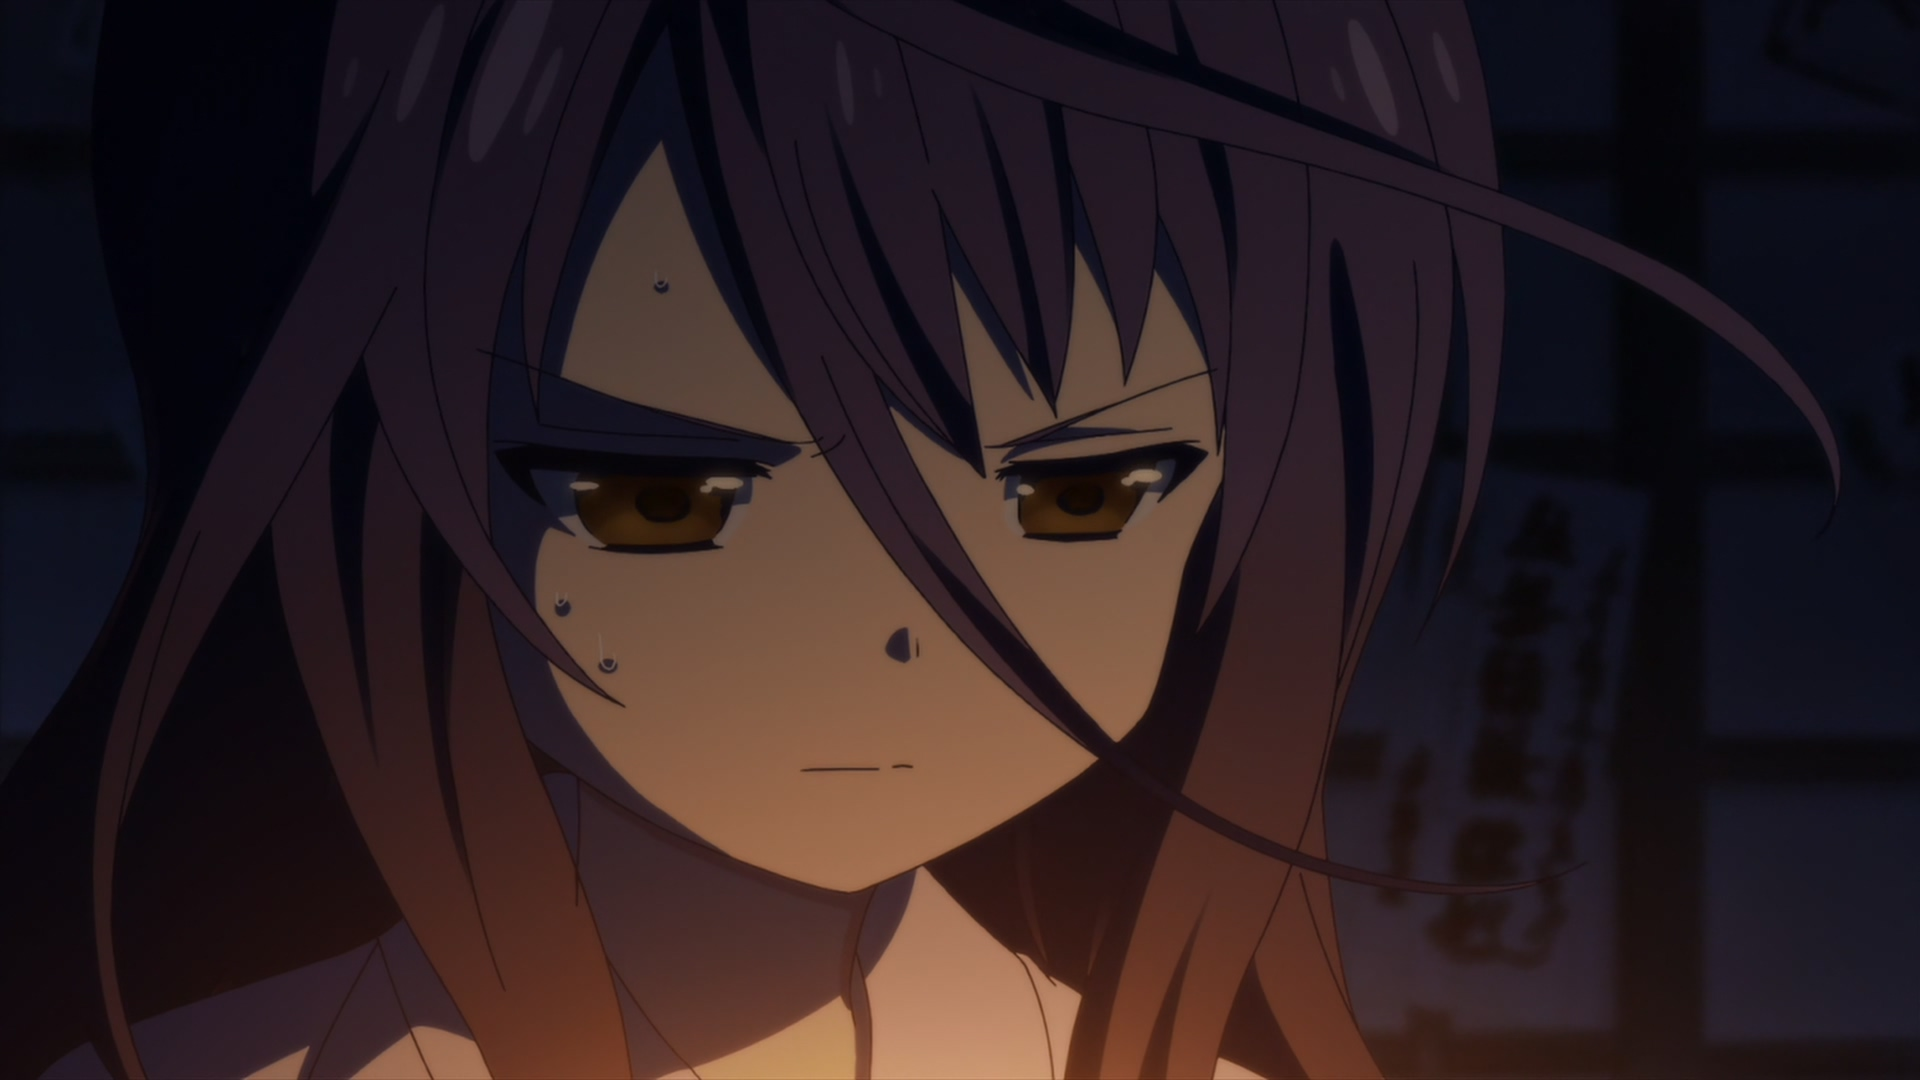皋: (1, 1, 1842, 1080)
